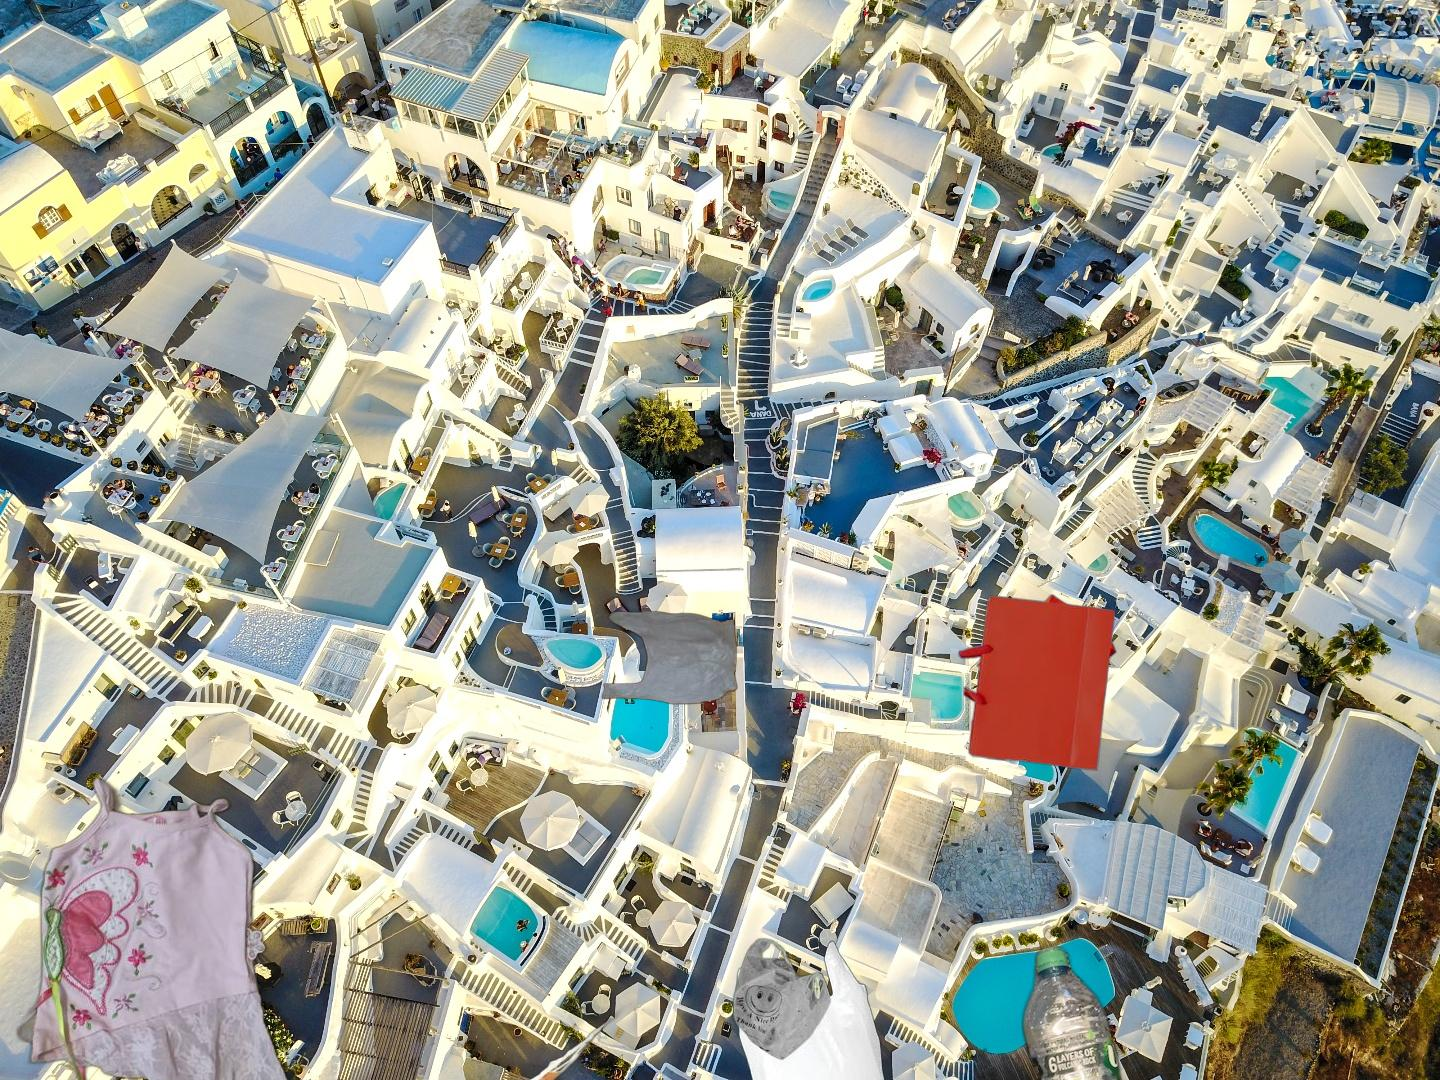clothes: (10, 773, 300, 1080)
paper: (468, 921, 727, 1080)
paper-bag: (957, 592, 1118, 773)
plastic-bag: (729, 935, 893, 1080), (599, 608, 739, 707)
plastic-bottles: (1017, 940, 1164, 1080)
